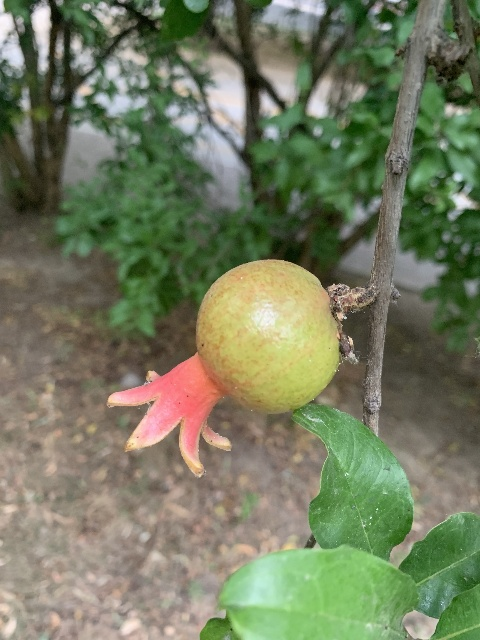mid-growth: (106, 259, 339, 477)
